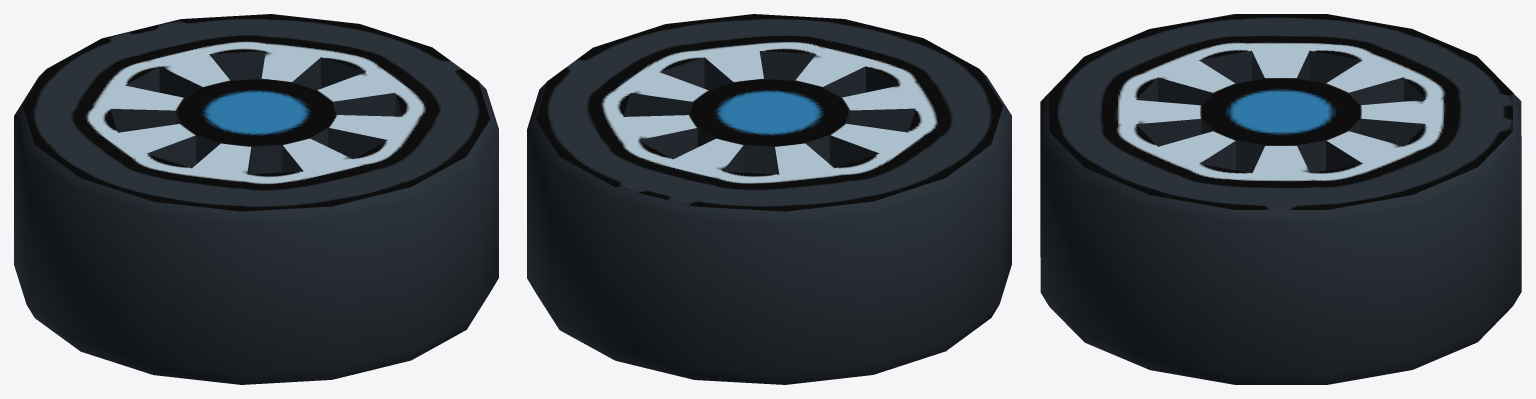
File: RubberTile.fbx
3 views of the same model, side by side, from view 1: azimuth 30°, elevation 25°; view 2: azimuth 150°, elevation 25°; view 3: azimuth 270°, elevation 25° (orthographic).
Parts seen in each view (by area): view 1: Tyre; view 2: Tyre; view 3: Tyre.
Part boxes in pixels (bbox=[...]): Tyre: bbox=[14, 14, 498, 384]; Tyre: bbox=[527, 14, 1011, 384]; Tyre: bbox=[1040, 14, 1521, 384].
Bounding box in the file's own units: 470 × 189 × 470.
1 material, 1 textured.
